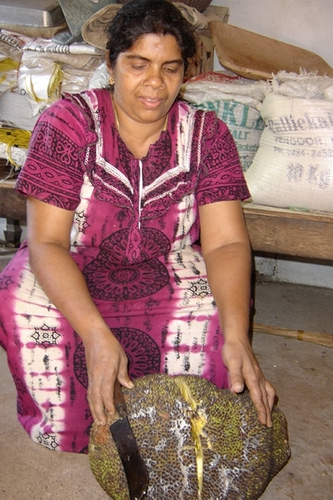jackfruit: (88, 374, 291, 498)
